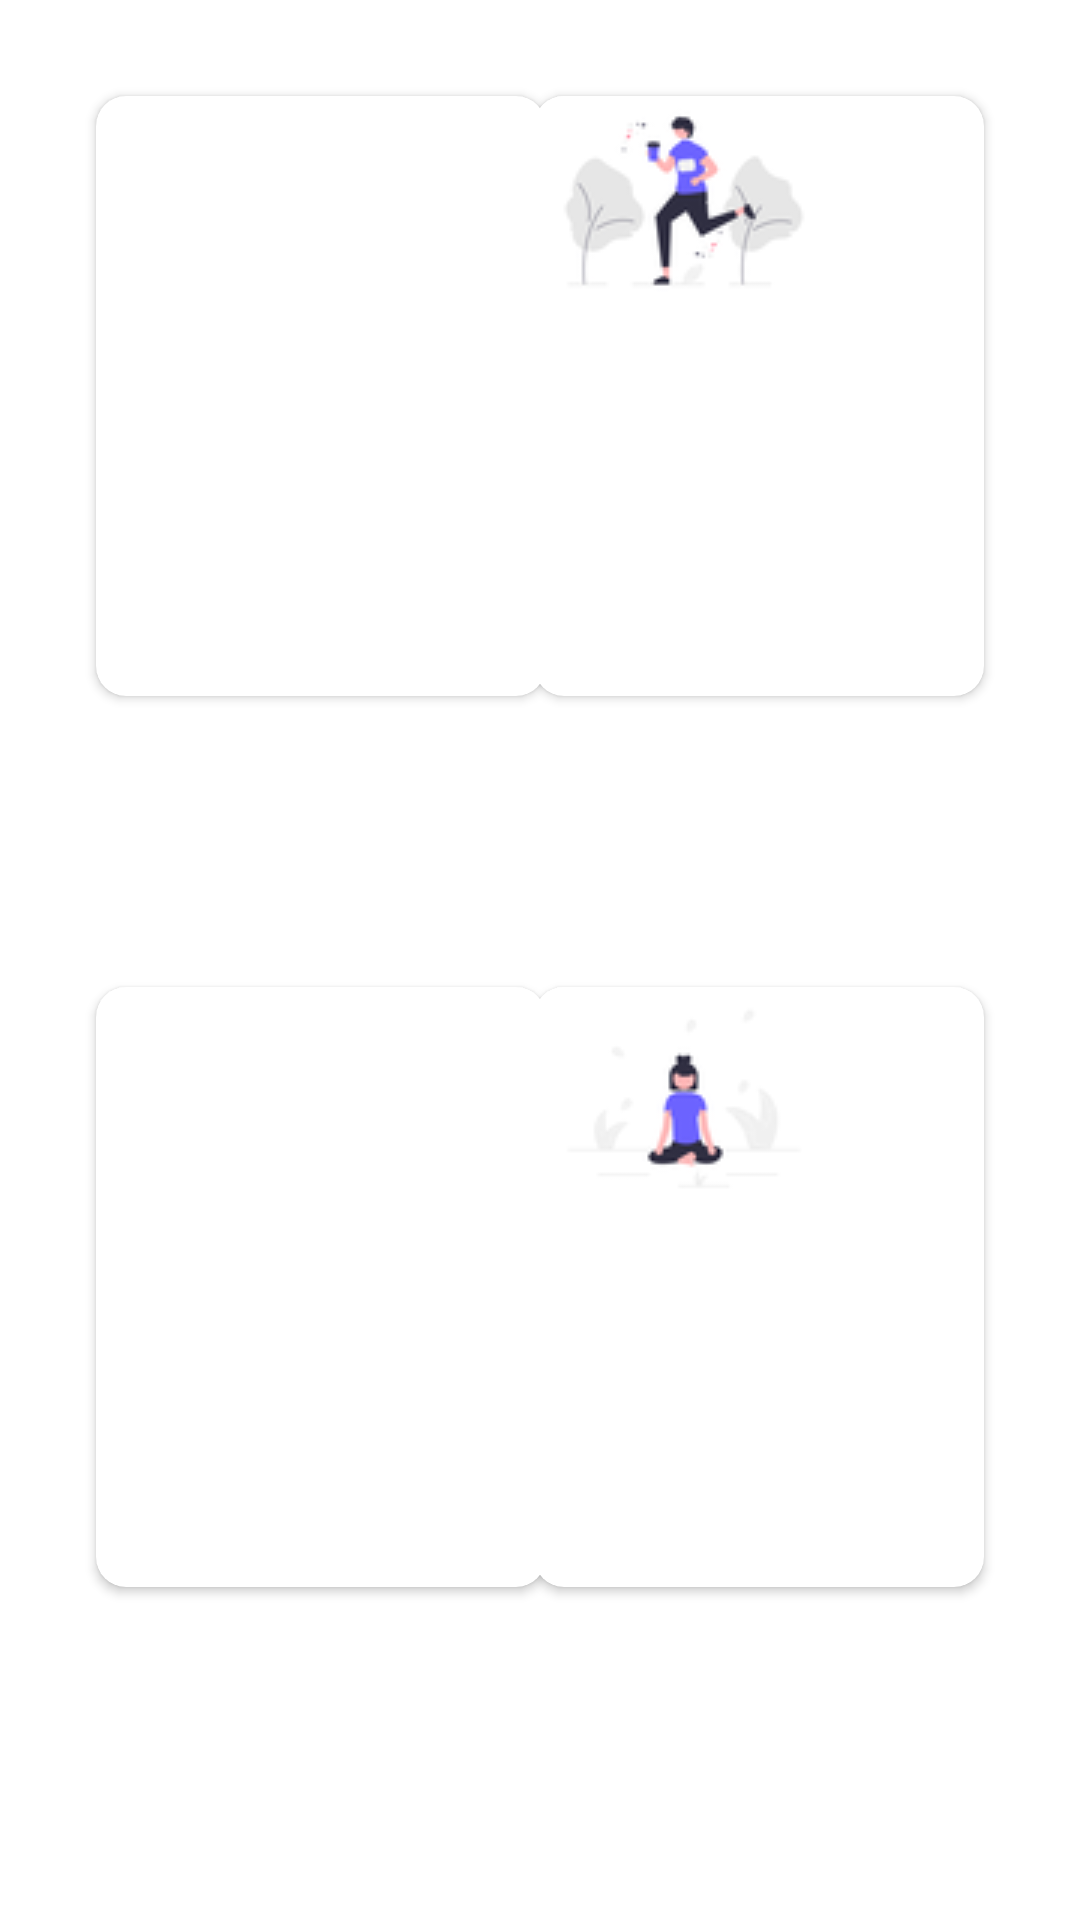

Icon bounding boxes for this 1080w x 1920h phone screenshot, format (x1, y1, x2, y2):
running: (536, 103, 800, 286)
